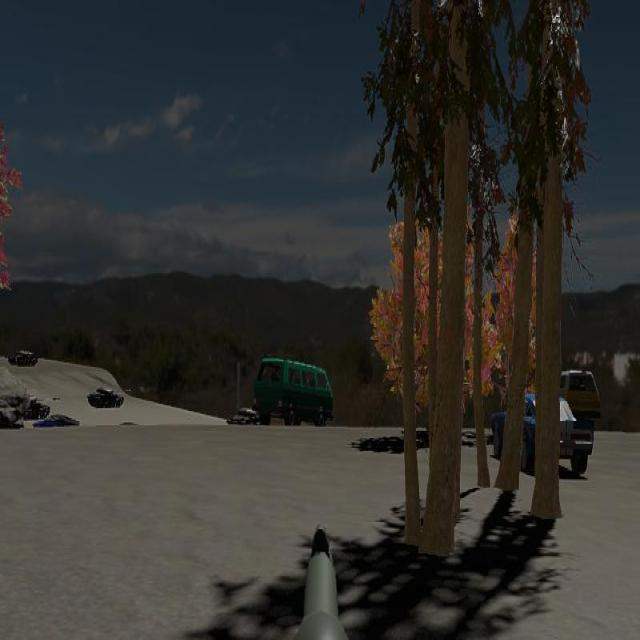Tank: (86, 386, 135, 409)
car: (490, 392, 594, 476), (253, 357, 333, 427)
